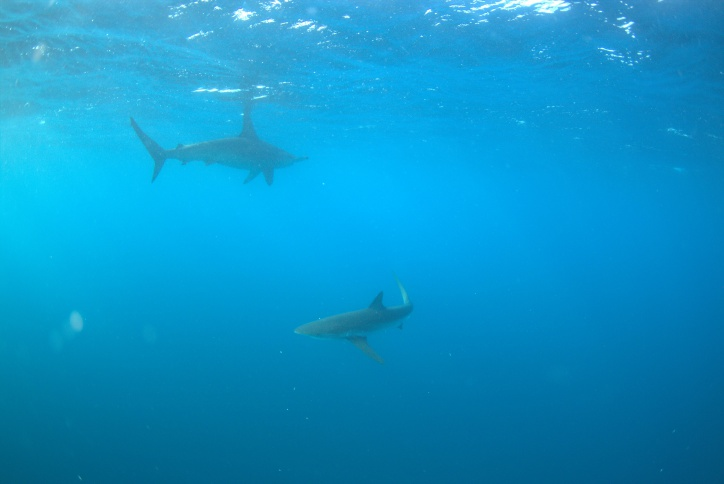Hammer: (117, 107, 320, 206), (283, 264, 429, 380)
